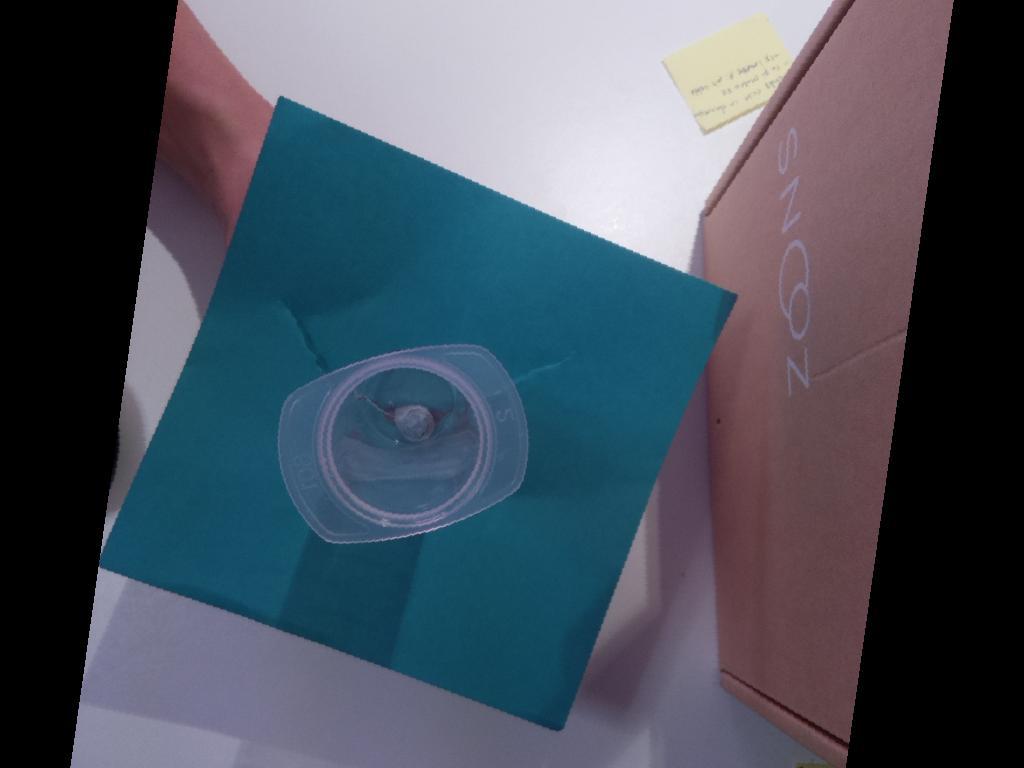clean: (277, 343, 530, 544)
